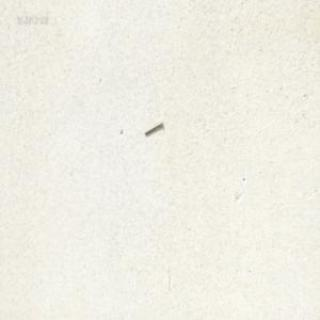Bolttrack_idkeyframe: (142, 119, 162, 135)
